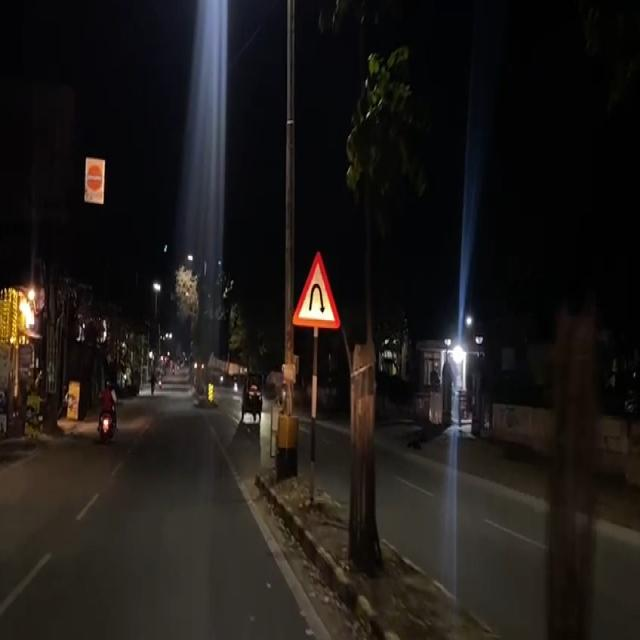bien_cam: (290, 243, 342, 335)
